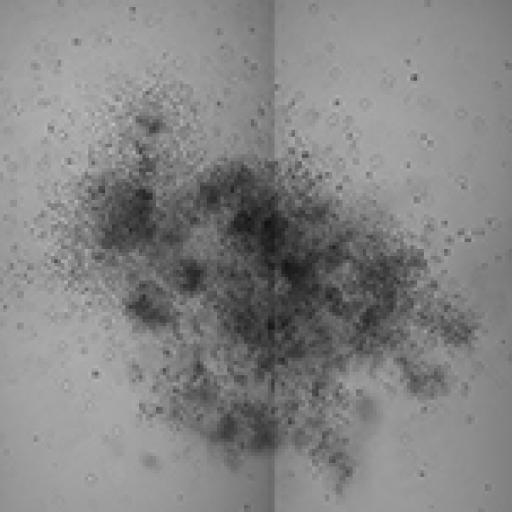CFU-GEMM: (61, 81, 476, 493), (175, 161, 424, 366)
